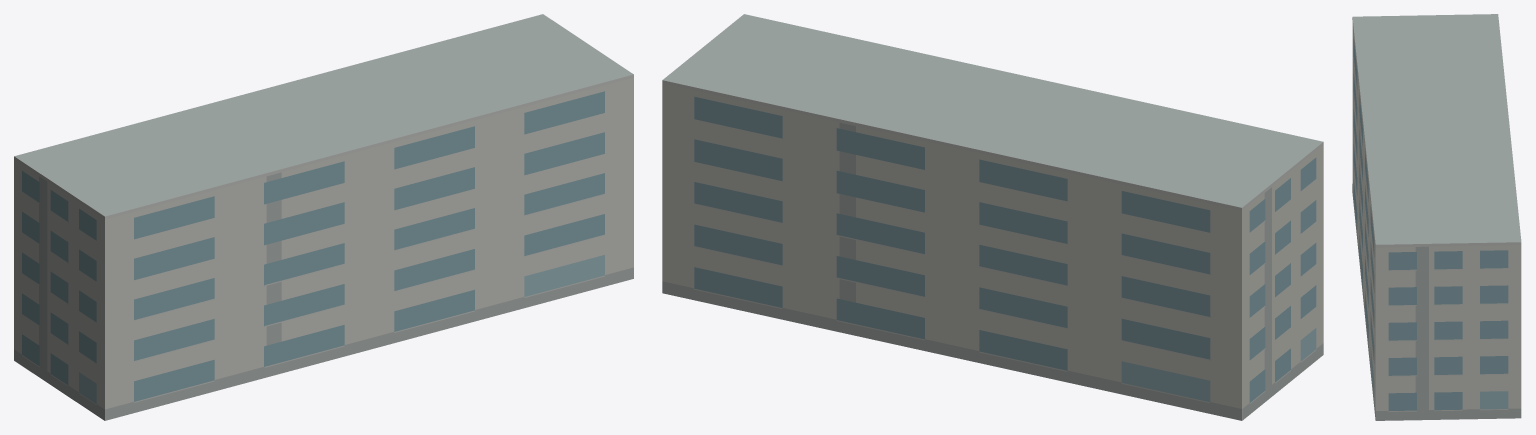
Rendered from residential-583f3afa-71f9-44a0-b8f3-f2fa7db9a6d1.glb.
3 renders of one model, left to right at view 1: azimuth 30°, elevation 25°; view 2: azimuth 150°, elevation 25°; view 3: azimuth 270°, elevation 25°, orthographic. The views are drawn at different scales.
Visible parts, largest first — view 1: residential-583f3afa-71f9-44a0-b8f3-f2fa7db9a6d1.tmp; view 2: residential-583f3afa-71f9-44a0-b8f3-f2fa7db9a6d1.tmp; view 3: residential-583f3afa-71f9-44a0-b8f3-f2fa7db9a6d1.tmp.
Boxes of the visible parts, x1=… form: residential-583f3afa-71f9-44a0-b8f3-f2fa7db9a6d1.tmp: x1=14, y1=14, x2=633, y2=420; residential-583f3afa-71f9-44a0-b8f3-f2fa7db9a6d1.tmp: x1=662, y1=14, x2=1323, y2=420; residential-583f3afa-71f9-44a0-b8f3-f2fa7db9a6d1.tmp: x1=1352, y1=14, x2=1521, y2=420.
Bounding box in the file's own units: 42.87 × 15.25 × 13.27.
